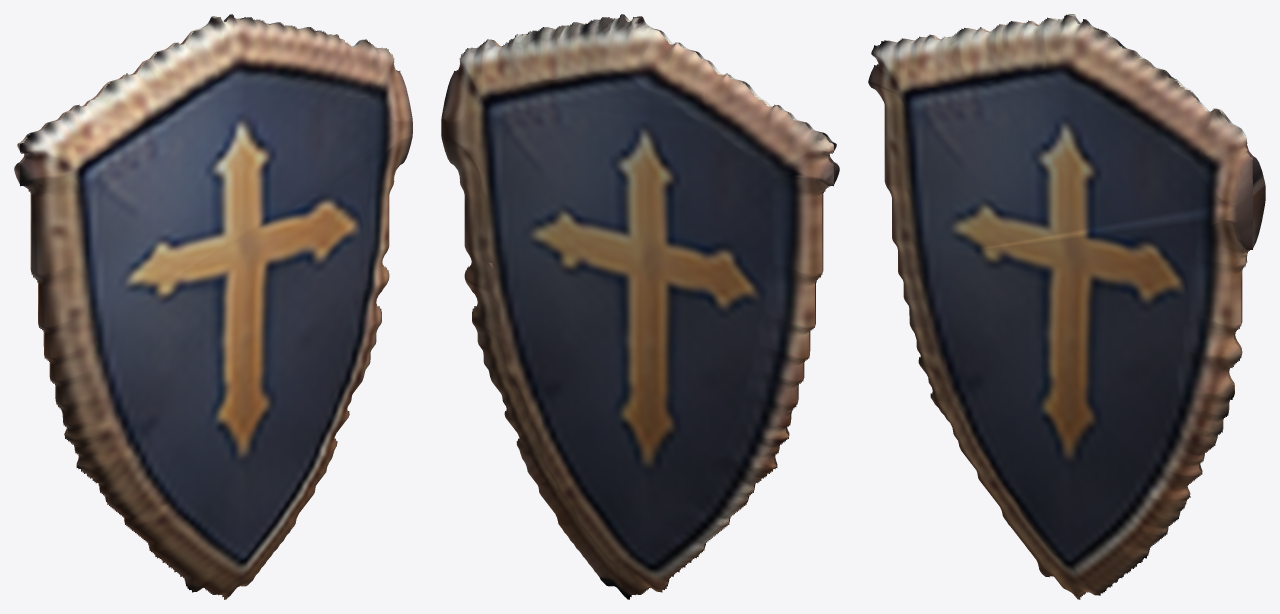
Rendered from schild.glb.
The picture shows the model from 3 angles, left to right: view 1: azimuth 30°, elevation 25°; view 2: azimuth 150°, elevation 25°; view 3: azimuth 330°, elevation 25°; orthographic projection.
Visible parts, largest first — view 1: schild; view 2: schild; view 3: schild.
Part boxes in pixels (x1,y1,x2,y2): schild: [14, 14, 412, 599]; schild: [441, 14, 839, 599]; schild: [868, 14, 1265, 599].
Bounding box in the file's own units: 0.5438 × 0.798 × 0.07.
1 material, 1 textured.
